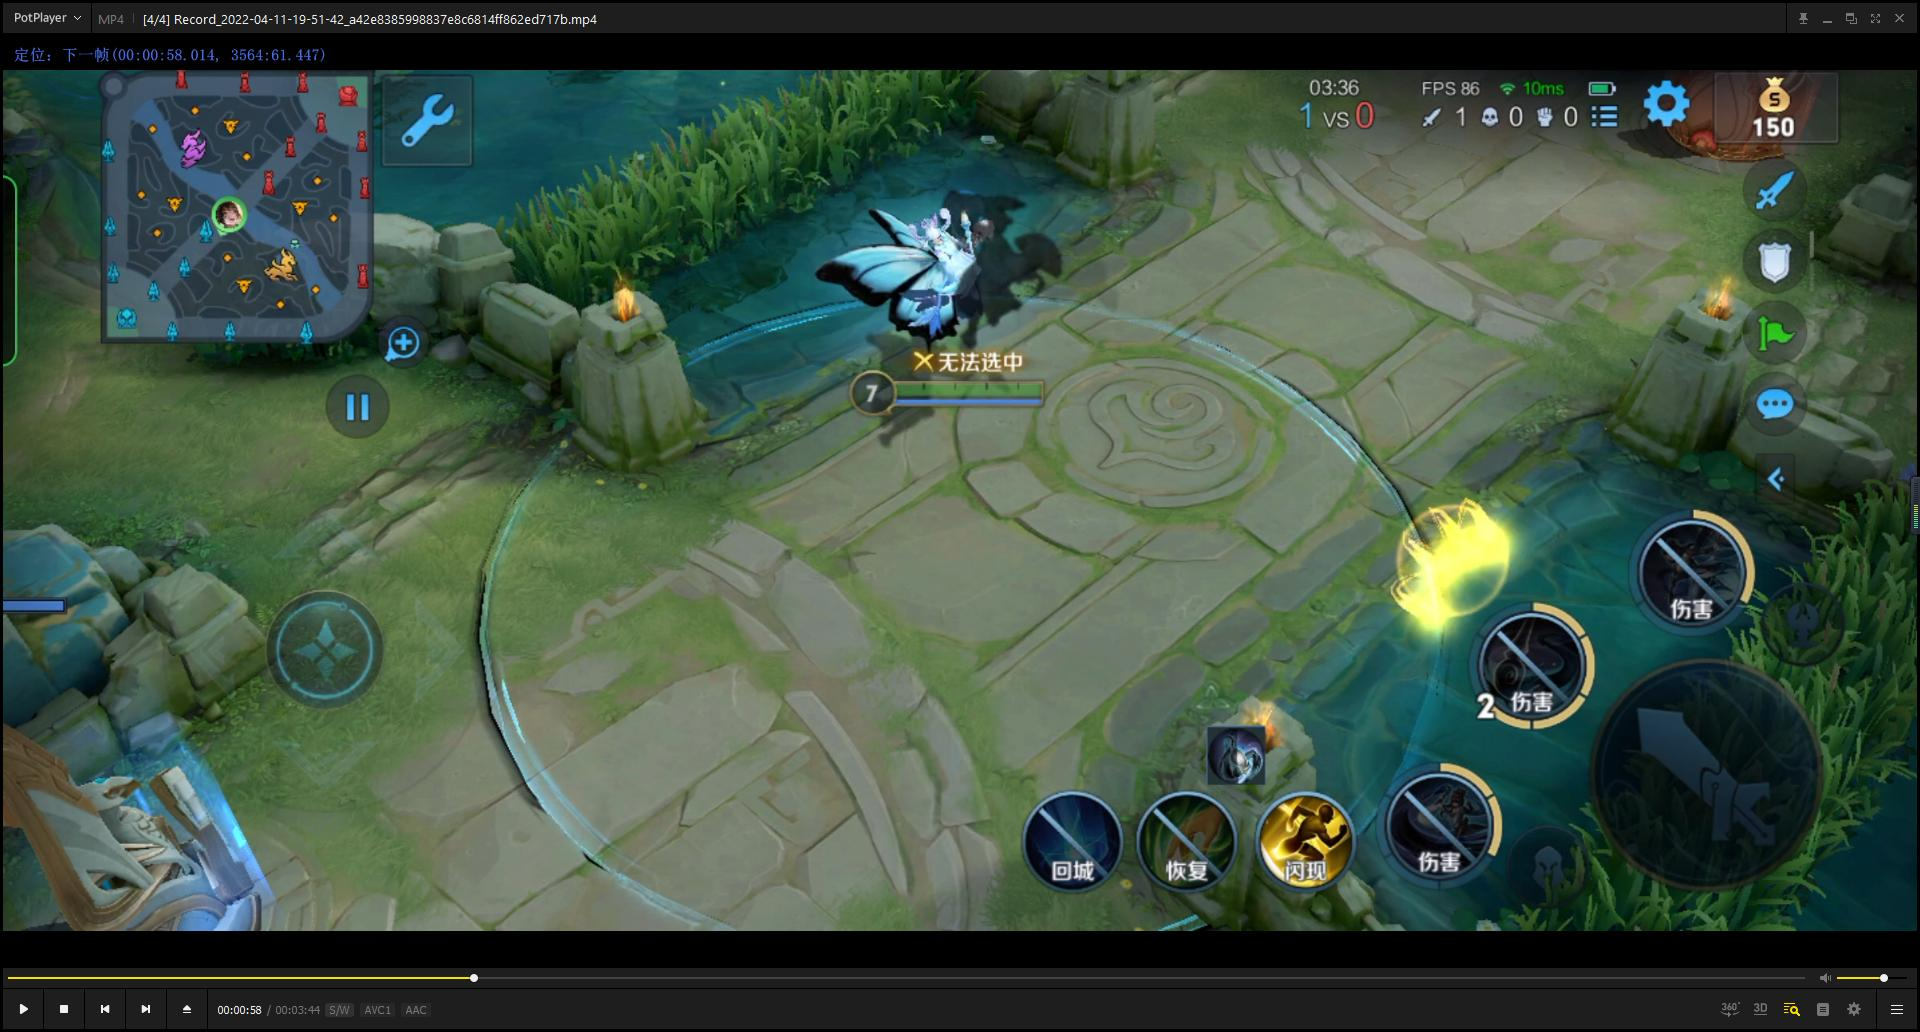Hero: (806, 189, 1060, 569)
Tower: (1, 649, 273, 935), (1635, 70, 1823, 182)
